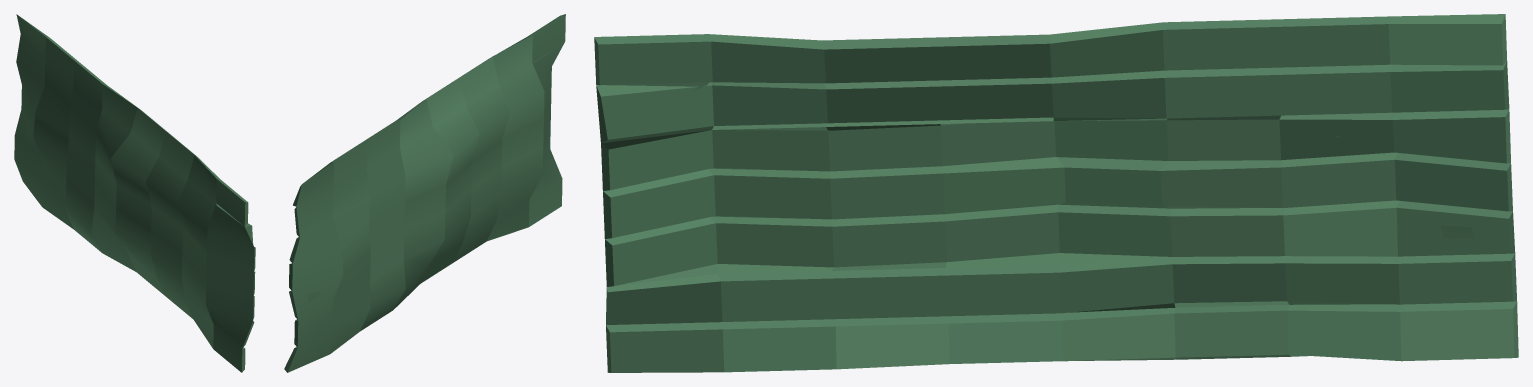
File: animated_broken.fbx
3 views of the same model, side by side, from view 1: azimuth 30°, elevation 25°; view 2: azimuth 150°, elevation 25°; view 3: azimuth 270°, elevation 25° (orthographic). The views are drawn at different scales.
Visible parts, largest first — view 1: broken; view 2: broken; view 3: broken.
Boxes of the visible parts, x1,y1,x2,y2 form: broken: (14, 14, 255, 372); broken: (284, 14, 565, 372); broken: (594, 14, 1518, 372).
Size of the model in its own units: 2.01 by 10.01 by 23.01.
